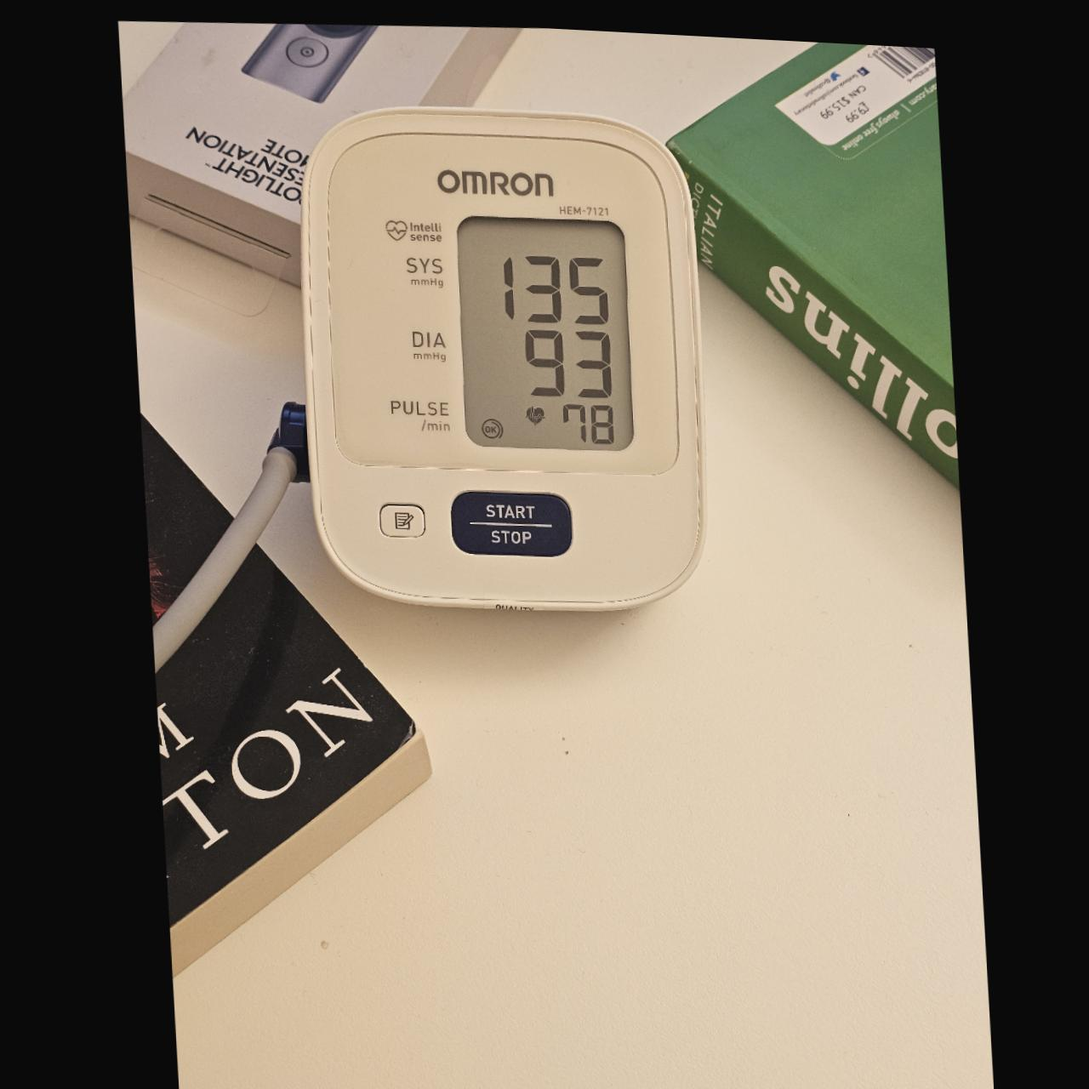blood pressure monitor: (288, 88, 720, 630)
